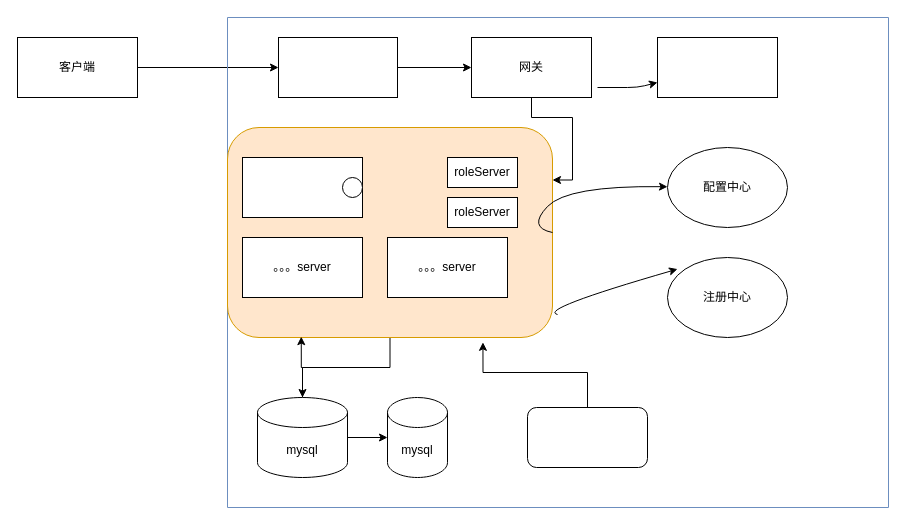
This 906x525 diagram has some shape labels left out. The shapes that lost their labels are listed below. From the top down, each one's box as (x1, y1, x2, y2) in pixels, then its label:
(278, 36, 398, 98): nginx
(656, 36, 778, 98): 权限
(242, 156, 362, 218): userServer
(526, 406, 648, 468): redis
